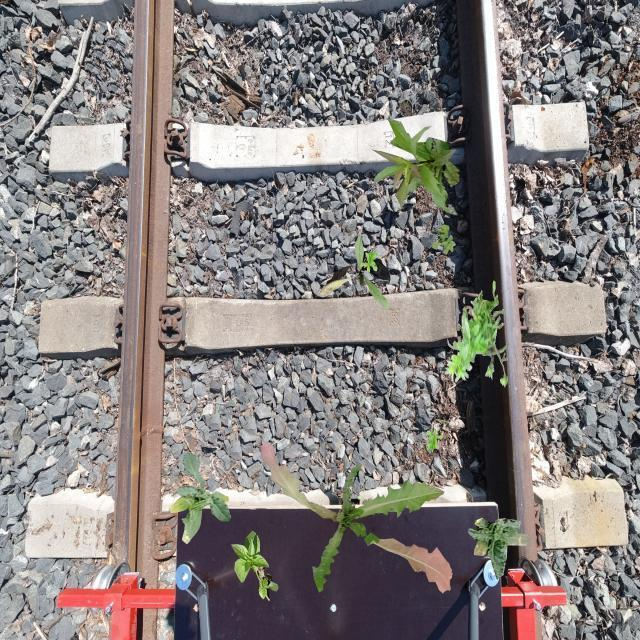Plant: (260, 442, 452, 594), (371, 118, 459, 216), (445, 280, 510, 388), (169, 451, 232, 544), (319, 235, 391, 310), (468, 518, 532, 580), (231, 531, 279, 602), (432, 224, 456, 254), (426, 429, 444, 453), (360, 250, 378, 274)
